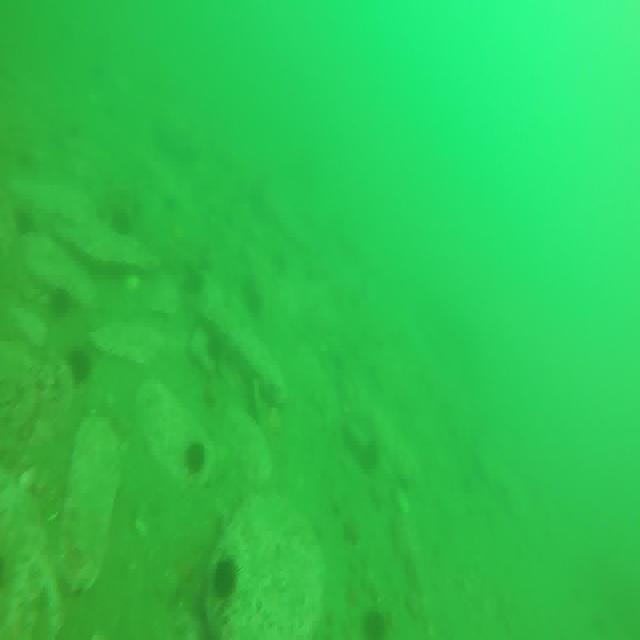echinus: (215, 556, 239, 598), (68, 346, 92, 386), (364, 607, 390, 640), (185, 439, 205, 476), (49, 286, 70, 319), (110, 209, 132, 239), (18, 209, 34, 238)
